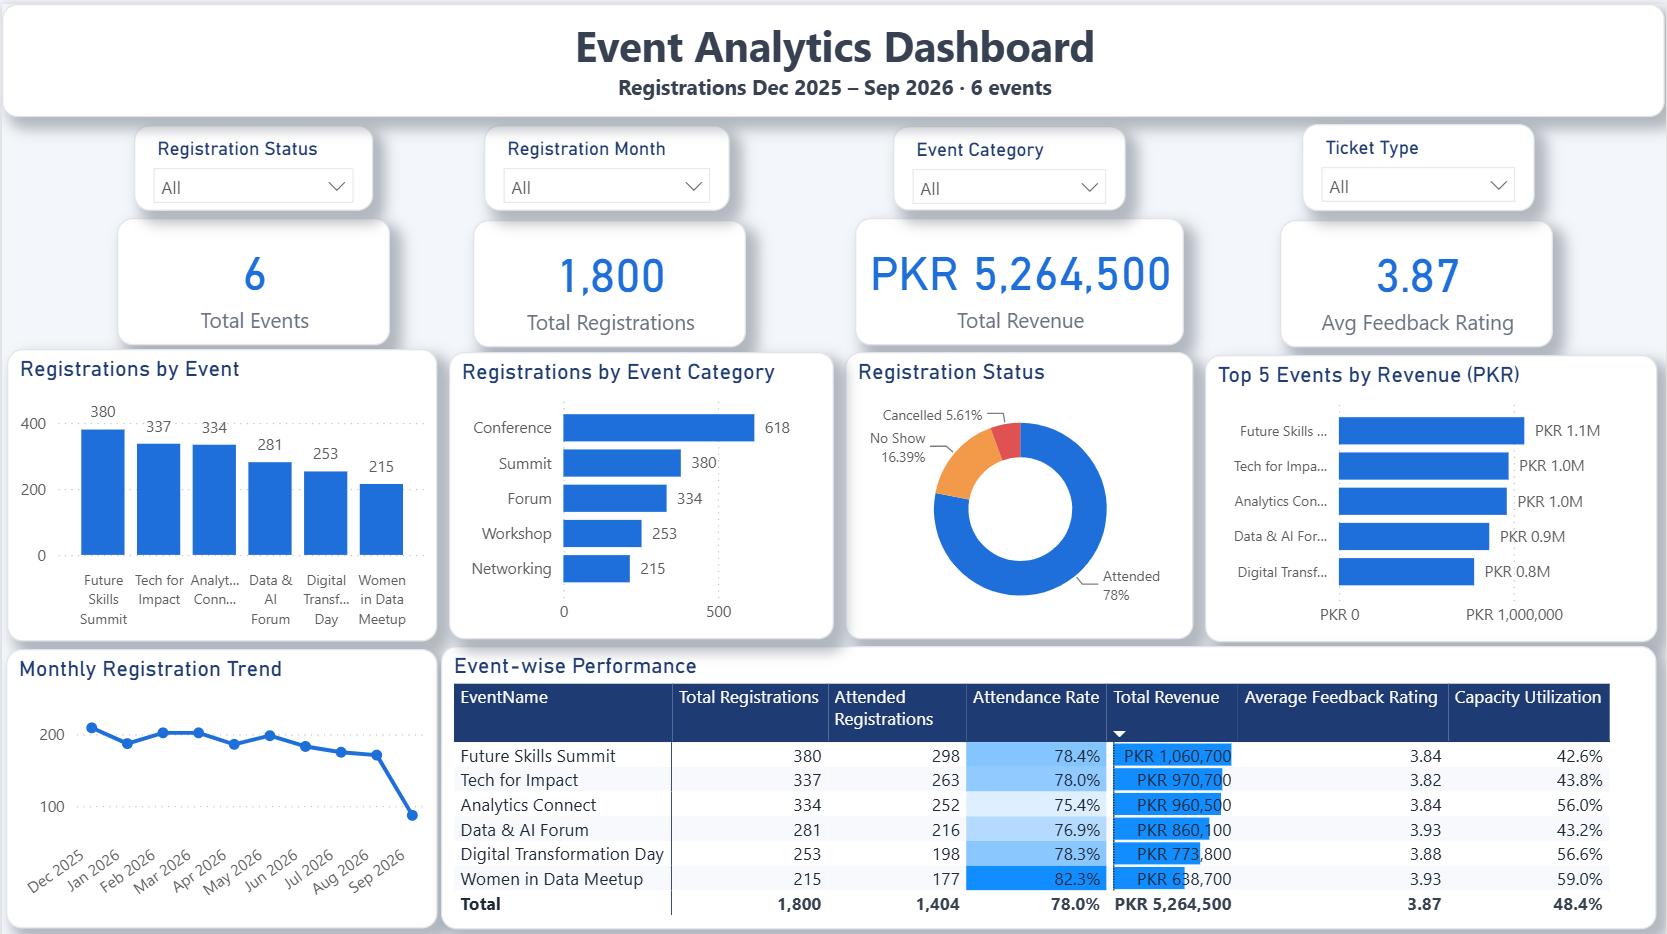

The page's visual inventory and layout, read from the dashboard file:
{"tool":"powerbi","page":{"name":"Event Overview","canvas":[1280,720],"ordinal":0},"visuals":[{"type":"card","fields":{"Values":["_Measures.Total Events"]},"box":[88.5,164.6,210,97.7],"z":0},{"type":"card","fields":{"Values":["_Measures.Total Registrations"]},"box":[362.3,166.2,210,97.7],"z":1000},{"type":"card","fields":{"Values":["_Measures.Average Feedback Rating"]},"box":[983.1,166.2,210,97.7],"z":2000},{"type":"card","fields":{"Values":["_Measures.Total Revenue"]},"box":[656.2,164.6,253.1,97.7],"z":3000},{"type":"clusteredColumnChart","title":"Registrations by Event","fields":{"Category":["Events.EventName"],"Y":["_Measures.Total Registrations"]},"box":[3.8,265.4,330.8,225.4],"z":4000},{"type":"lineChart","title":"Monthly Registration Trend","fields":{"Category":["DimDate.Month"],"Y":["_Measures.Total Registrations"]},"box":[3.1,496.2,331.5,215.4],"z":5000},{"type":"donutChart","title":"Registration Status","fields":{"Category":["Registrations.Registration Status"],"Y":["_Measures.Total Registrations"]},"box":[648.5,267.7,267.7,220.8],"z":6000},{"type":"barChart","title":"Top 5 Events by Revenue (PKR)","fields":{"Category":["Events.EventName"],"Y":["_Measures.Total Revenue"]},"box":[925.4,270,347.7,220.8],"z":7000},{"type":"pivotTable","title":"Event-wise Performance","fields":{"Rows":["Events.EventName"],"Values":["_Measures.Total Registrations","_Measures.Attended Registrations","_Measures.Attendance Rate","_Measures.Total Revenue","_Measures.Average Feedback Rating","_Measures.Capacity Utilization"]},"box":[337.7,493.8,935.4,218.5],"z":8000},{"type":"barChart","title":"Registrations by Event Category","fields":{"Category":["Events.Event Category"],"Y":["_Measures.Total Registrations"]},"box":[343.8,267.7,296.2,220.8],"z":9000},{"type":"slicer","fields":{"Values":["Events.Event Category"]},"box":[685.4,93.8,179.2,65.4],"z":10000},{"type":"slicer","fields":{"Values":["DimDate.Month"]},"box":[370.8,93.1,189.2,66.2],"z":11000},{"type":"slicer","fields":{"Values":["Registrations.Registration Status"]},"box":[101.5,93.1,183.8,66.2],"z":12000},{"type":"textbox","box":[0,0,1279.2,86.9],"z":13000},{"type":"slicer","fields":{"Values":["Registrations.TicketType"]},"box":[1000,92.3,179.2,66.9],"z":14000}]}

Visuals, with their boxes in screenshot pixels (x1, y1, x2, y2), scaled from the page's 1280x720 canvas onto the 1667x934 screenshot:
card - _Measures.Total Events: [x1=115, y1=214, x2=389, y2=340]
card - _Measures.Total Registrations: [x1=472, y1=216, x2=745, y2=342]
card - _Measures.Average Feedback Rating: [x1=1280, y1=216, x2=1554, y2=342]
card - _Measures.Total Revenue: [x1=855, y1=214, x2=1184, y2=340]
"Registrations by Event" clusteredColumnChart: [x1=5, y1=344, x2=436, y2=637]
"Monthly Registration Trend" lineChart: [x1=4, y1=644, x2=436, y2=923]
"Registration Status" donutChart: [x1=845, y1=347, x2=1193, y2=634]
"Top 5 Events by Revenue (PKR)" barChart: [x1=1205, y1=350, x2=1658, y2=637]
"Event-wise Performance" pivotTable: [x1=440, y1=641, x2=1658, y2=924]
"Registrations by Event Category" barChart: [x1=448, y1=347, x2=834, y2=634]
slicer - Events.Event Category: [x1=893, y1=122, x2=1126, y2=207]
slicer - DimDate.Month: [x1=483, y1=121, x2=729, y2=207]
slicer - Registrations.Registration Status: [x1=132, y1=121, x2=372, y2=207]
textbox: [x1=0, y1=0, x2=1666, y2=113]
slicer - Registrations.TicketType: [x1=1302, y1=120, x2=1536, y2=207]
